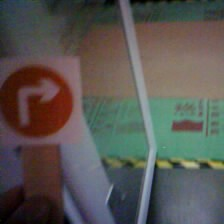right: (5, 61, 87, 144)
